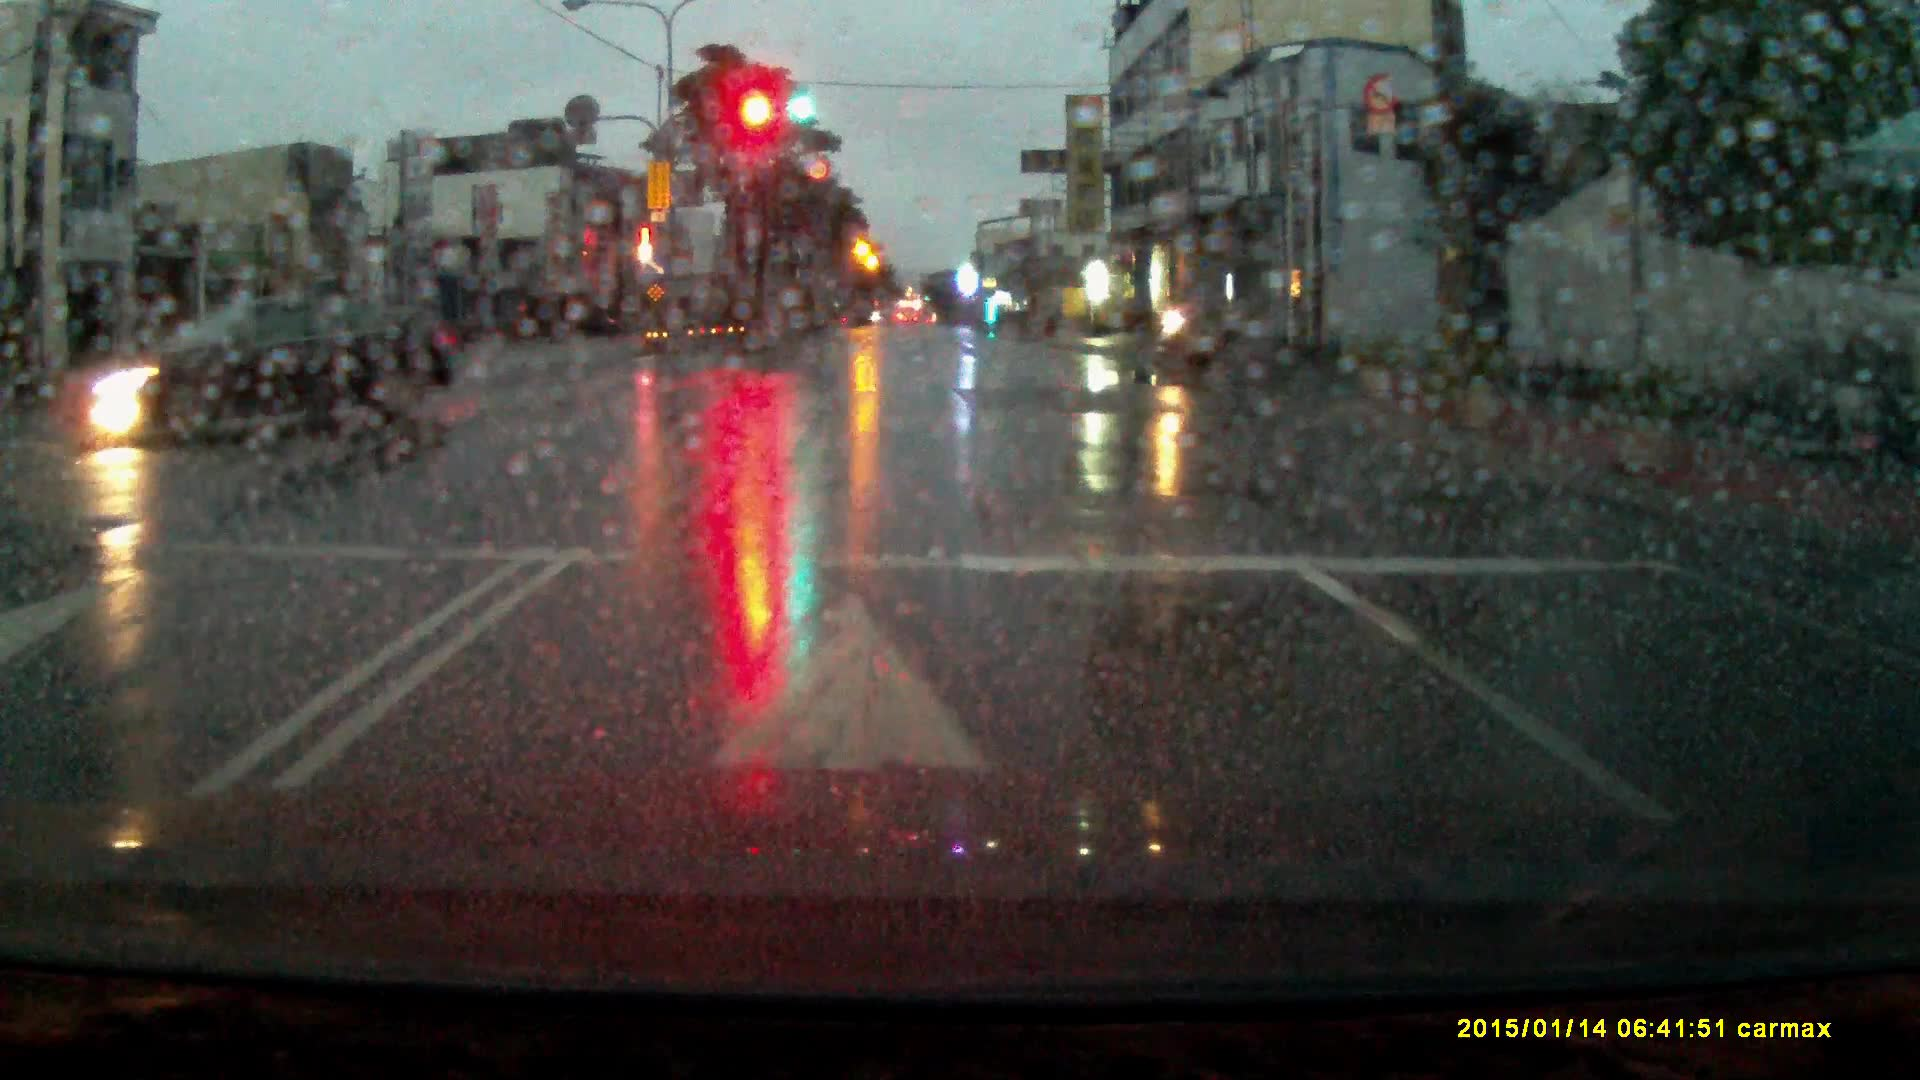rider: (1136, 283, 1223, 374)
vehicle: (89, 292, 442, 453)
